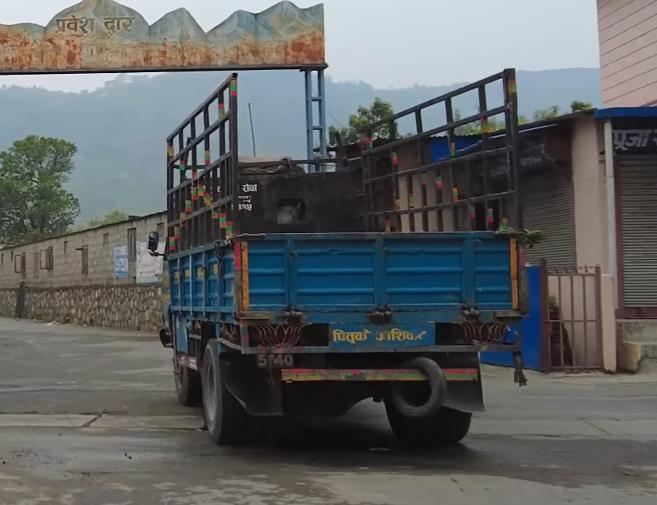mini_truck: (139, 60, 529, 455)
